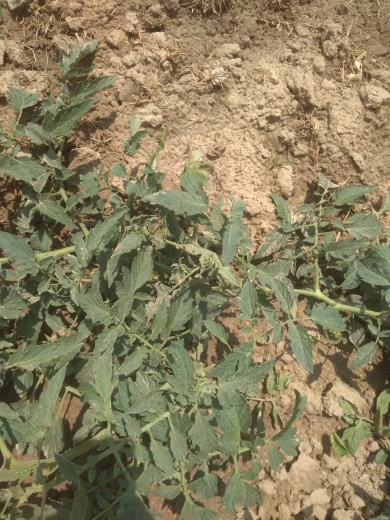tomato diseased leaf: (176, 234, 259, 299)
tomato plant: (5, 195, 348, 512)
